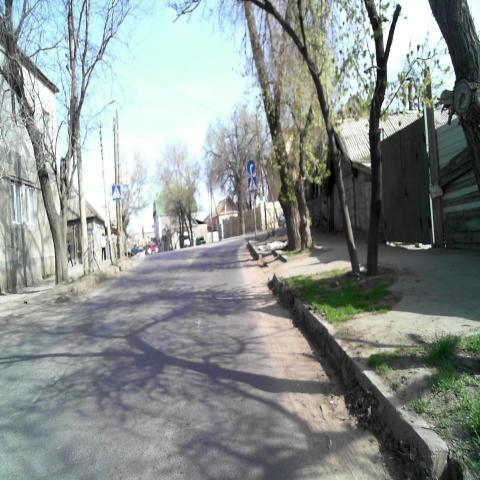4_1_2: (247, 160, 255, 174)
